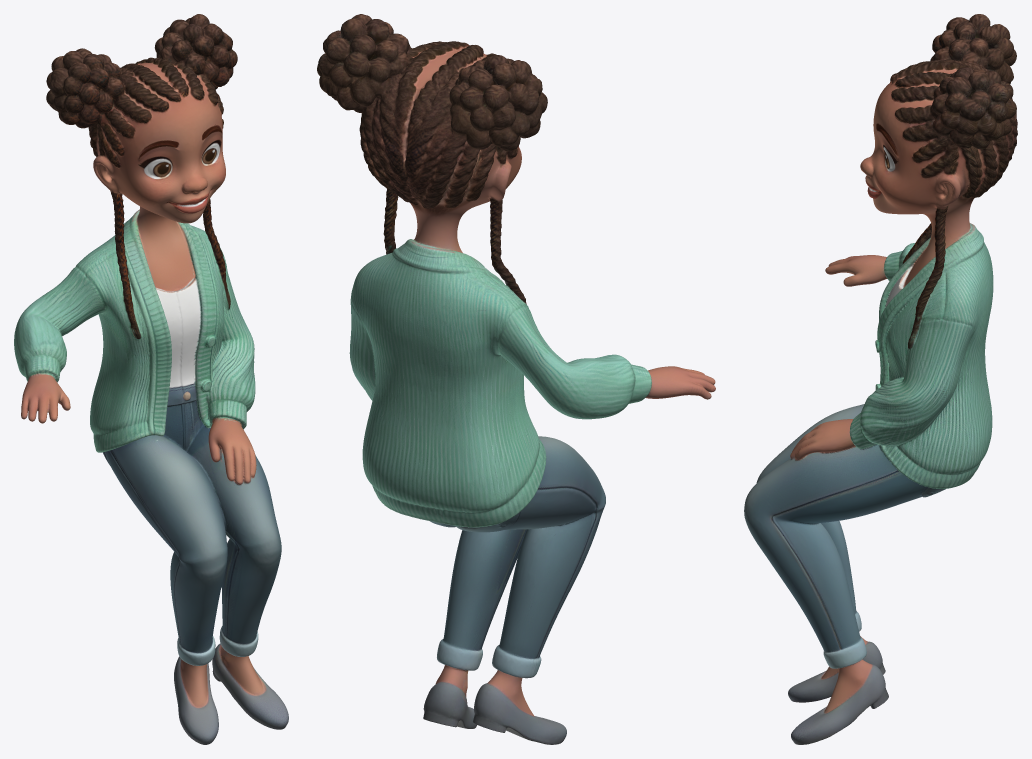
File: Paula_NPC_Meshy_2.glb
3 renders of one model, left to right at view 1: azimuth 30°, elevation 25°; view 2: azimuth 150°, elevation 25°; view 3: azimuth 270°, elevation 25°, orthographic. The views are drawn at different scales.
Visible parts, largest first — view 1: Mesh_0; view 2: Mesh_0; view 3: Mesh_0.
Part boxes in pixels (<box>): Mesh_0: <box>14,14,288,744</box>; Mesh_0: <box>317,14,715,744</box>; Mesh_0: <box>744,14,1017,744</box>.
Bounding box in the file's own units: 0.6403 × 1.5 × 0.5526.
Materials: 1 (1 with a texture image).
